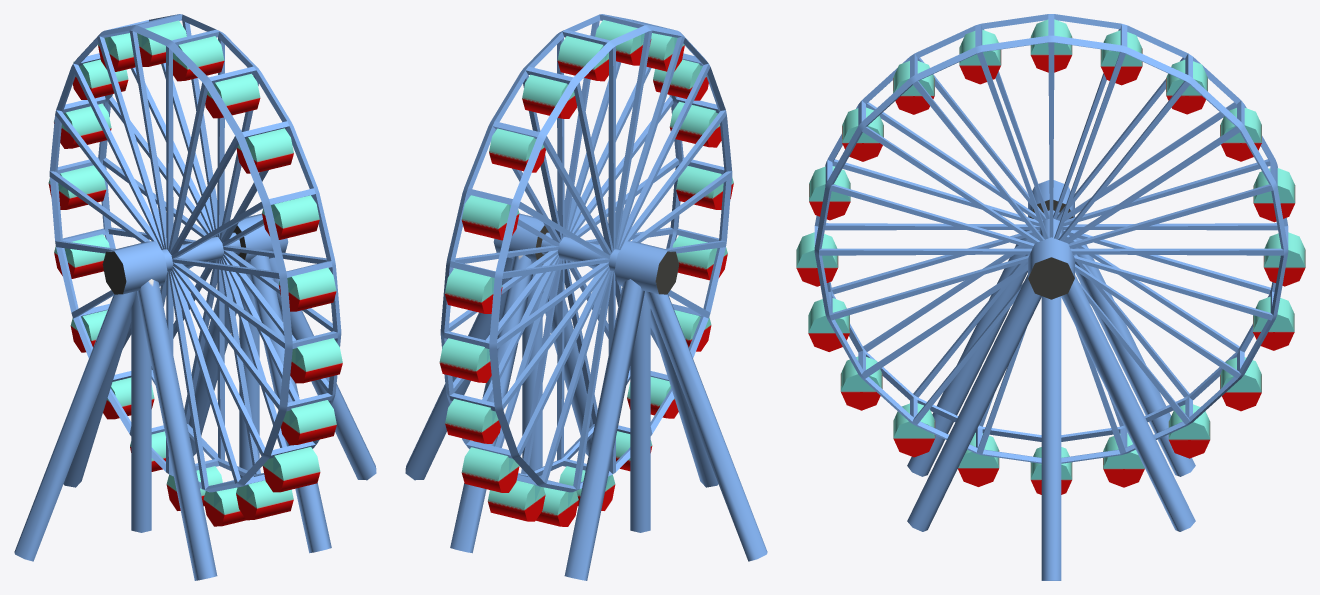
Rendered from kanransha.fbx.
3 renders of one model, left to right at view 1: azimuth 30°, elevation 25°; view 2: azimuth 150°, elevation 25°; view 3: azimuth 270°, elevation 25°, orthographic.
Visible parts, largest first — view 1: sharin, pCylinder3, pCylinder2, pCylinder1, pCylinder4, pCylinder14, pCylinder13, pCylinder12, pCylinder9, pCylinder11, pCylinder10, pCylinder15 (+12 smaller); view 2: sharin, pCylinder3, pCylinder2, pCylinder1, pCylinder4, pCylinder19, pCylinder20, pCylinder21, pCylinder22, pCylinder23, pCylinder18, pCylinder24 (+12 smaller); view 3: sharin, pCylinder3, pCylinder2, pCylinder4, pCylinder18, pCylinder15, pCylinder14, pCylinder12, pCylinder13, pCylinder19, pCylinder20, pCylinder21 (+12 smaller).
Part boxes in pixels (x1,y1,x2,y2): sharin: (49,14,341,492); pCylinder3: (63,255,331,580); pCylinder2: (14,257,376,561); pCylinder1: (131,265,259,532); pCylinder4: (102,213,288,294); pCylinder14: (262,447,320,492); pCylinder13: (281,400,336,445); pCylinder12: (290,338,342,383); pCylinder9: (236,128,293,173); pCylinder11: (278,267,336,311); pCylinder10: (262,195,319,239); pCylinder15: (236,480,293,520); sharin: (440,14,732,492); pCylinder3: (450,255,718,580); pCylinder2: (405,257,767,561); pCylinder1: (522,265,650,532); pCylinder4: (493,213,679,294); pCylinder19: (461,447,519,492); pCylinder20: (445,399,500,443); pCylinder21: (439,338,491,382); pCylinder22: (444,268,502,313); pCylinder23: (461,195,519,240); pCylinder18: (487,480,545,521); pCylinder24: (489,128,545,172); sharin: (814,14,1288,463); pCylinder3: (907,230,1195,531); pCylinder2: (1041,296,1061,580); pCylinder4: (1028,180,1074,299); pCylinder18: (1168,404,1210,458); pCylinder15: (893,403,935,457); pCylinder14: (840,356,882,410); pCylinder12: (796,232,838,286); pCylinder13: (808,298,849,351); pCylinder19: (1220,357,1261,411); pCylinder20: (1253,296,1294,350); pCylinder21: (1263,232,1305,286).
Size of the model in its own units: 9.92 by 12.69 by 12.26.
Materials: 1 (1 with a texture image).
